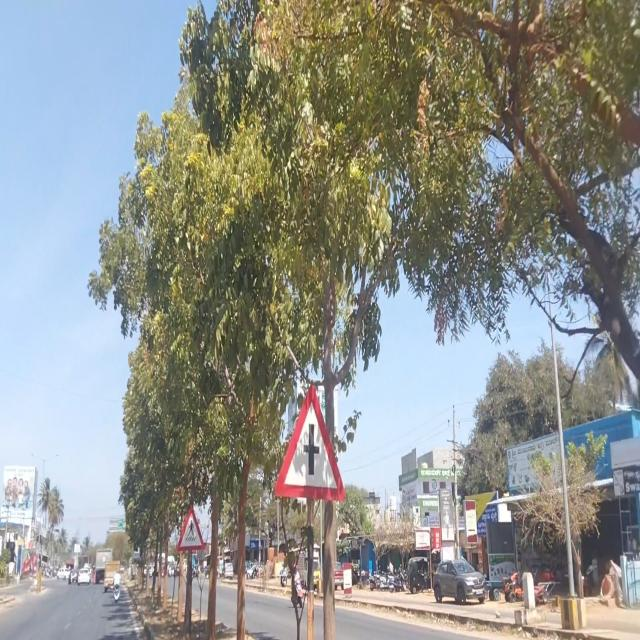bien_cam: (275, 382, 344, 504), (176, 502, 206, 550)
